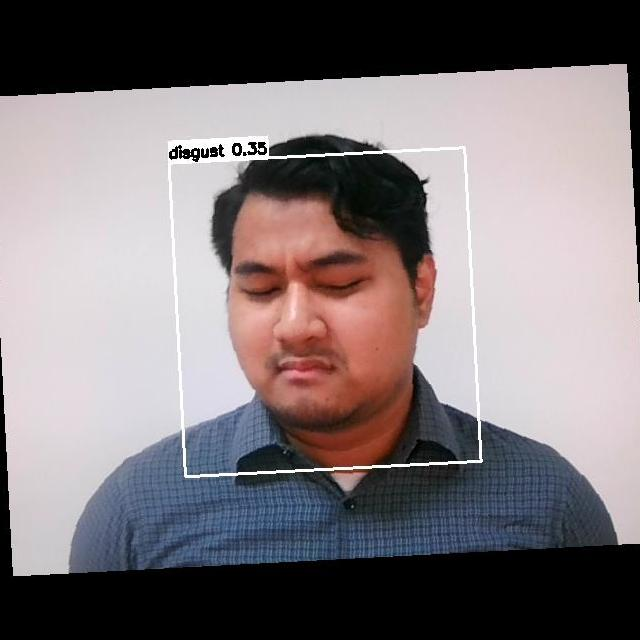Disgust: (216, 236, 416, 411)
